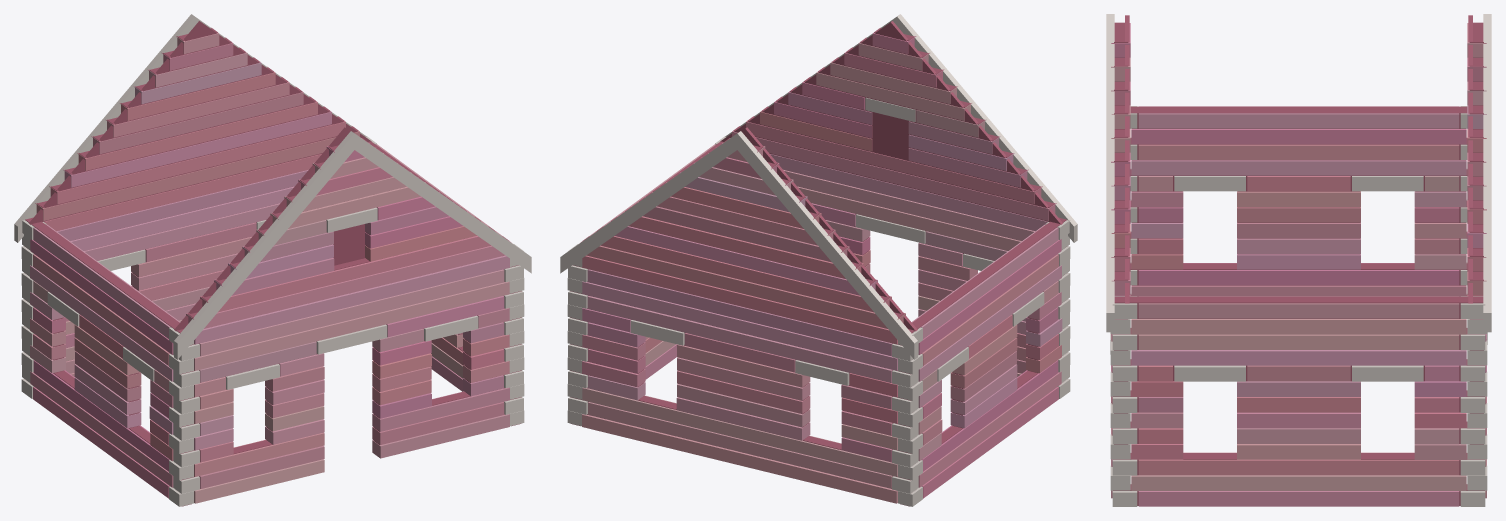
Rendered from CandyHouse_Pink_Walls.glb.
The picture shows the model from 3 angles, left to right: view 1: azimuth 30°, elevation 25°; view 2: azimuth 150°, elevation 25°; view 3: azimuth 270°, elevation 25°; orthographic projection. The views are drawn at different scales.
Visible parts, largest first — view 1: CandyHouse_Pink_Walls; view 2: CandyHouse_Pink_Walls; view 3: CandyHouse_Pink_Walls.
Boxes of the visible parts, <box> form: CandyHouse_Pink_Walls: <box>14,14,531,506</box>; CandyHouse_Pink_Walls: <box>560,14,1077,506</box>; CandyHouse_Pink_Walls: <box>1106,14,1491,506</box>.
Size of the model in its own units: 25.8 by 23.24 by 20.6.
